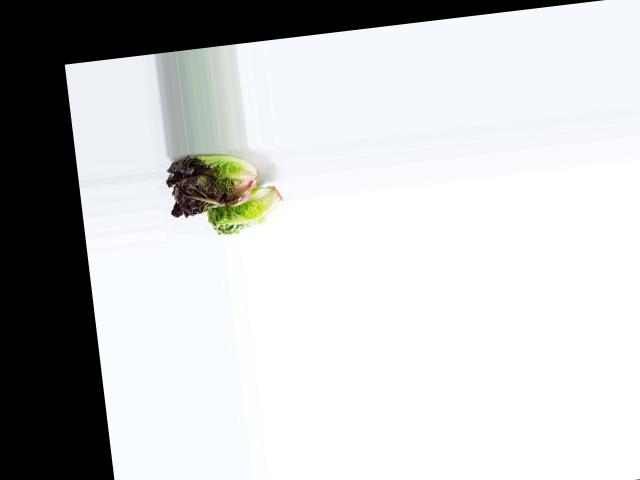lettuce: (203, 181, 289, 237)
